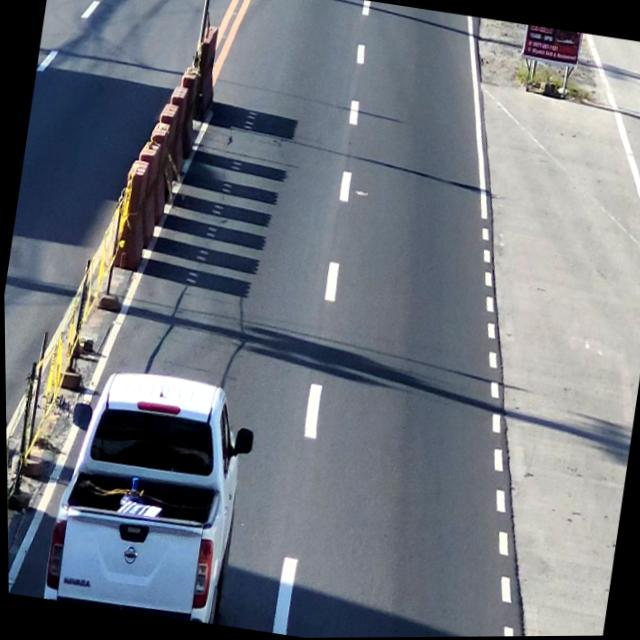Car: (42, 366, 252, 626)
